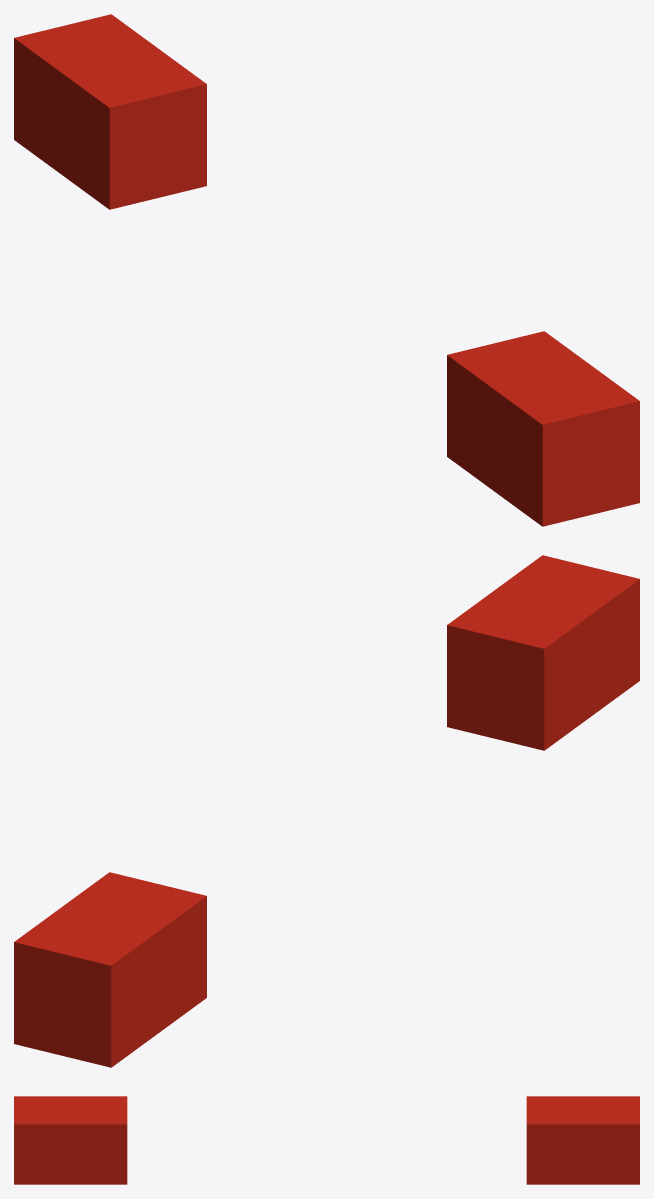
The model's file is RearLights.glb.
3 renders of one model, top to bottom at view 1: azimuth 30°, elevation 25°; view 2: azimuth 150°, elevation 25°; view 3: azimuth 270°, elevation 25°, orthographic. The views are drawn at different scales.
Parts seen in each view (by area): view 1: Cube.068; view 2: Cube.068; view 3: Cube.068.
Boxes of the visible parts, x1,y1,x2,y2 form: Cube.068: [14, 14, 639, 526]; Cube.068: [14, 555, 639, 1067]; Cube.068: [14, 1096, 639, 1184].
Bounding box in the file's own units: 0.00645 × 0.00645 × 0.0606.
Materials: 1 (1 with a texture image).
